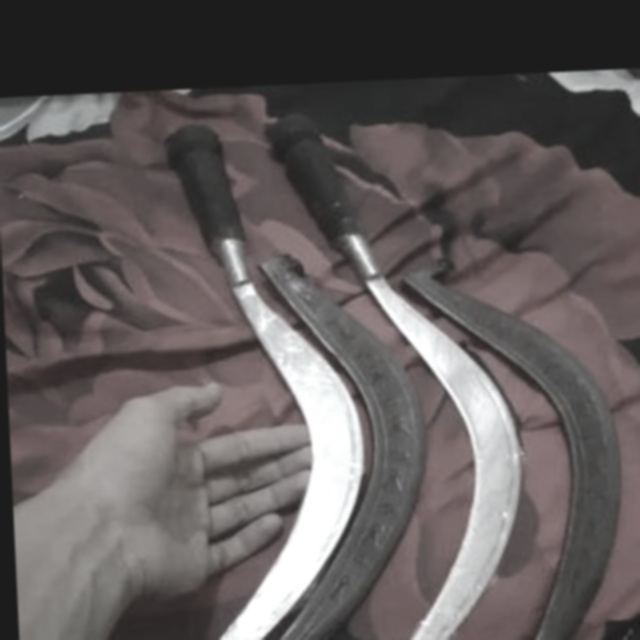Sharp-Object: (263, 89, 530, 640), (152, 83, 347, 640)
